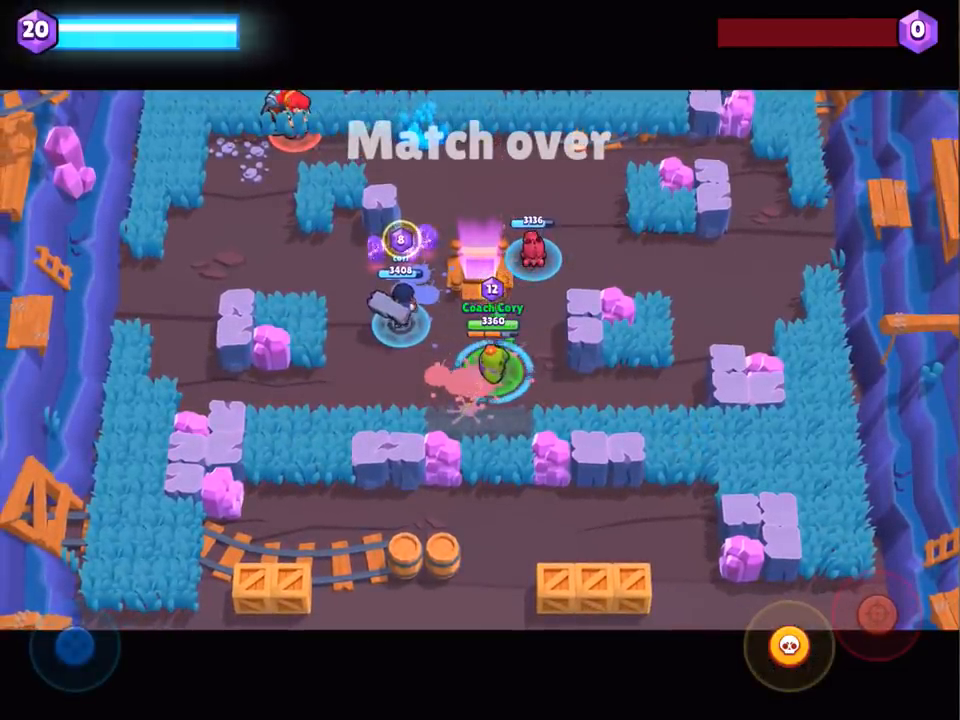move_stick: (63, 626, 94, 660)
red: (260, 86, 341, 158)
